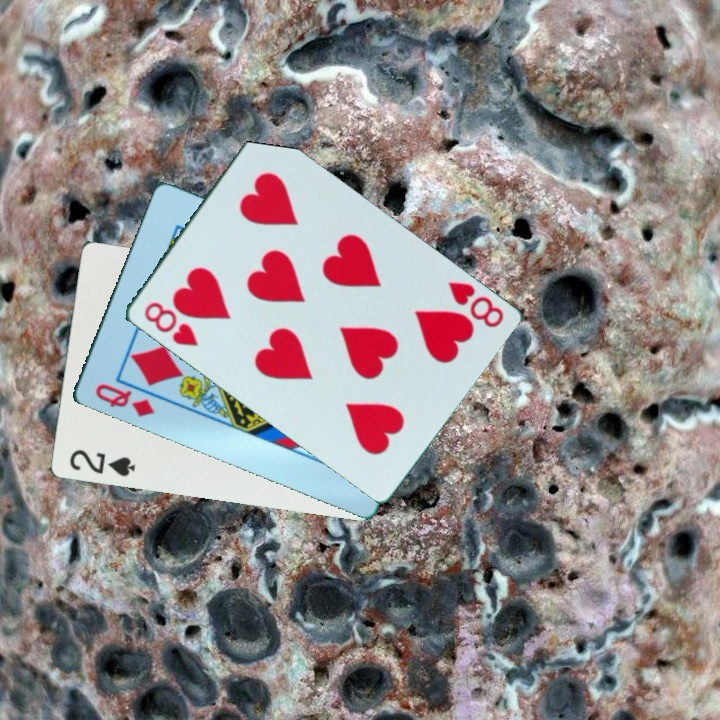2s: (65, 446, 138, 480)
8h: (443, 278, 506, 331), (139, 298, 202, 350)
Qd: (91, 380, 158, 421)
